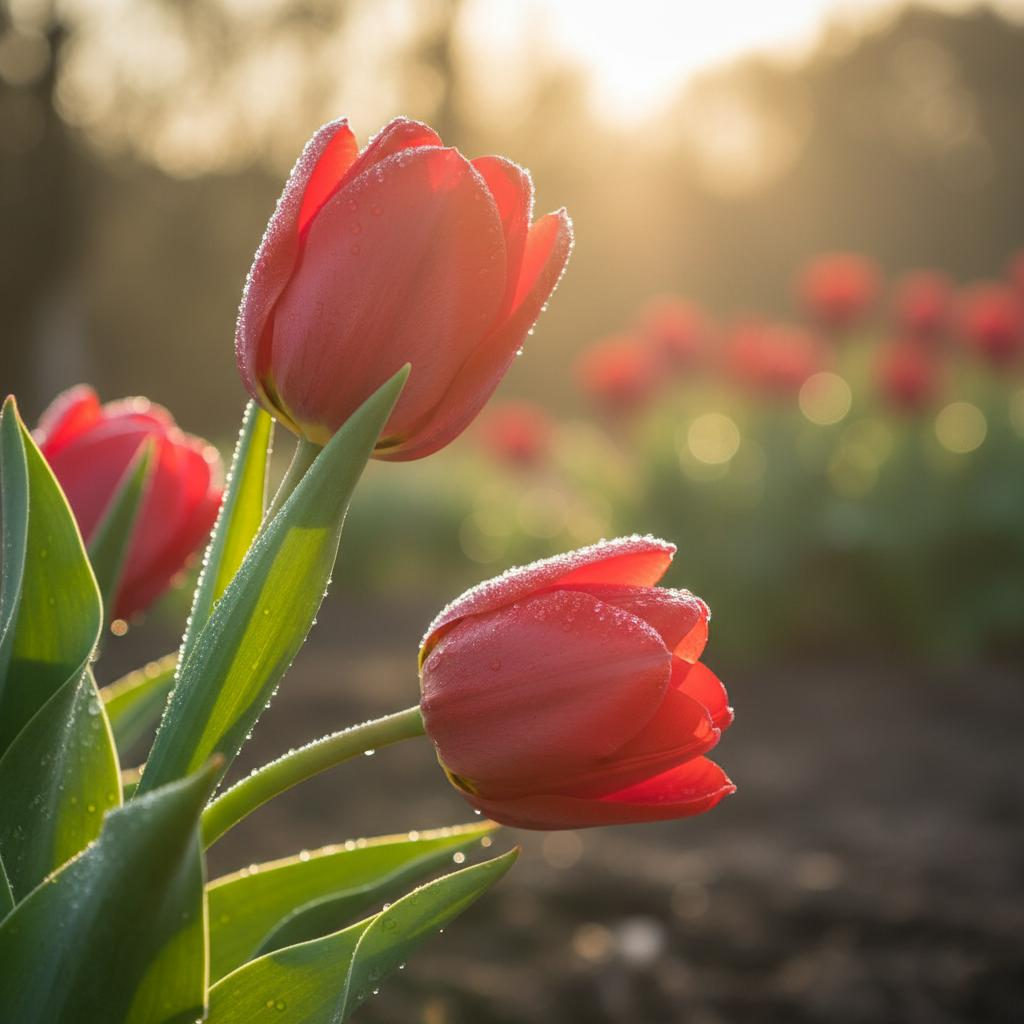tulip: (232, 112, 575, 463), (415, 531, 738, 832), (29, 381, 226, 630)
